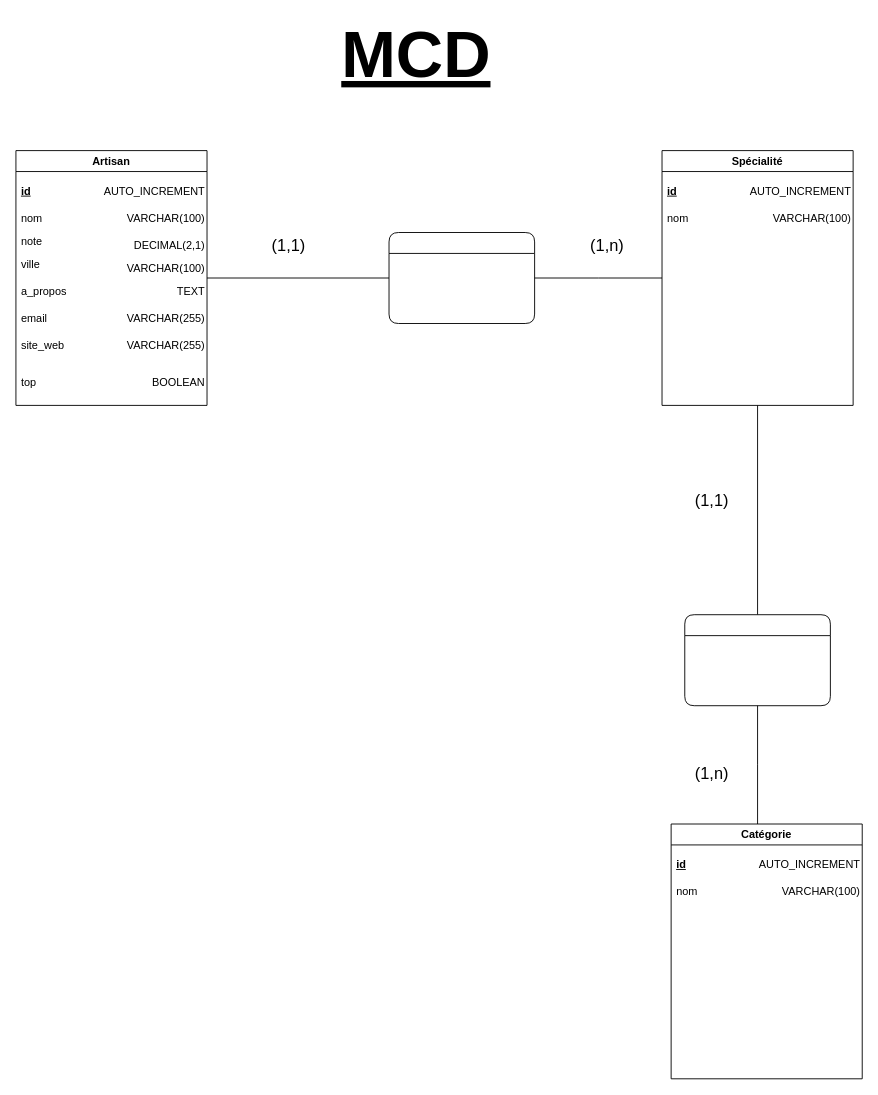
This 878x1095 diagram has some shape labels left out. The shapes that lost their labels are listed below. From the top down, each one's centre as x and y in pixels, then its label:
the point at 461,278: Apparaît
the point at 757,660: est rattachée
